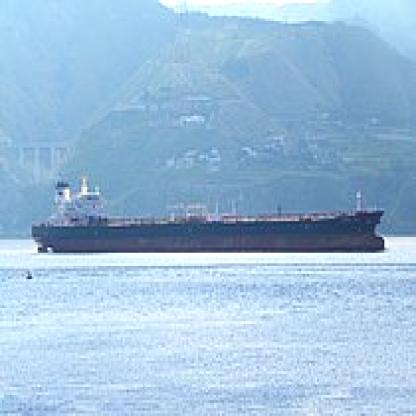Tanker: (30, 169, 398, 264)
